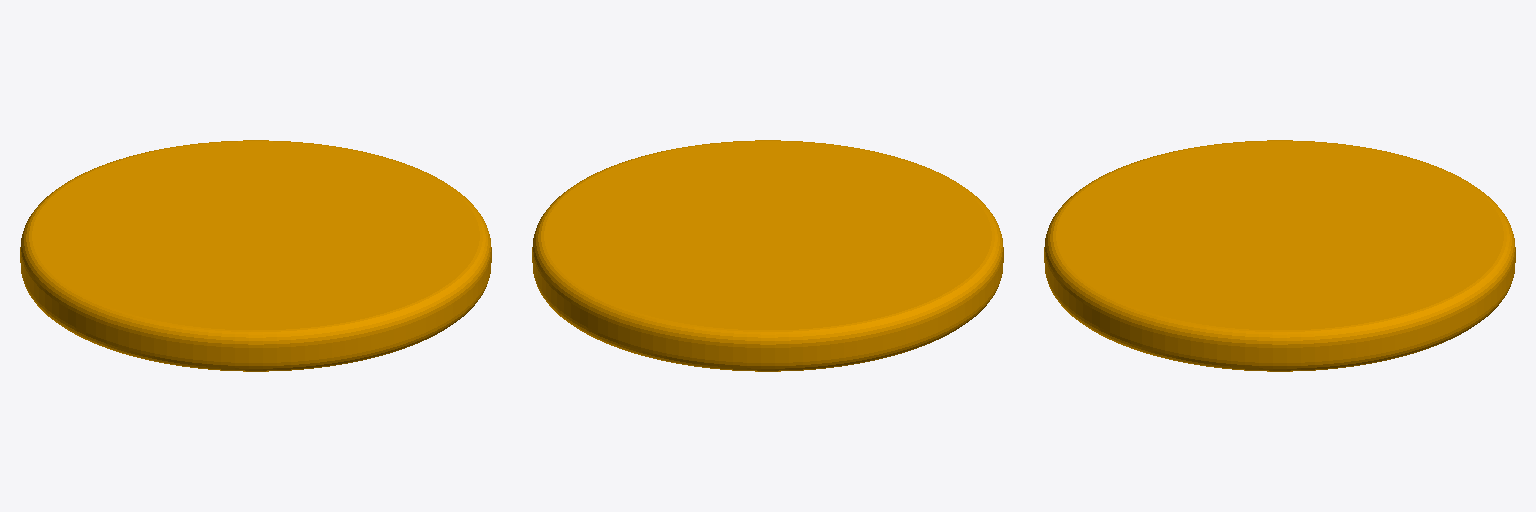
URDF robot description (tom):
<?xml version="1.0"?>
<robot name="tom">

<link name="tom_link">

  <collision>
    <origin xyz="0 0 0" rpy="0 0 0"/>
    <geometry>
      <!-- <mesh filename="package://ur_description/meshes/burger_v1.stl" scale="0.003 0.003 0.003"/> -->
      <box size="0.070 0.070 0.010" />
    </geometry>
  </collision>

  <visual>
    <origin xyz="0 0 0" rpy="0 0 0"/>
    <geometry>
      <mesh filename="package://ur_description/meshes/burger_v1.stl" scale="0.0025 0.0025 0.003"/>
    </geometry>
  </visual>

  <inertial>
   <origin xyz="0 0 0" rpy="0 0 0"/>
   <mass value="0.0225" />
   <inertia
      ixx="0.0" ixy="0.0"  ixz="0.0"
      iyy="0.0" iyz="0.0"  izz="0.0" />
  </inertial>
  <static>true</static>
</link>

<gazebo reference="tom_link">
  <static>1</static>
  <visual>
    <material>
      <ambient>1 0 0. 1.0</ambient>
      <diffuse>1 0 0 1.0</diffuse>
      <specular>0 0 0 1.0</specular>
      <emissive>0 0 0 1.0</emissive>
    </material>
  </visual>
  <mu1>100</mu1>
  <mu2>100</mu2>
  <kp>2147483647</kp>
  <kd>1</kd>
  <maxVel>0</maxVel>
  <minDepth>0.001</minDepth>
</gazebo>

</robot>

--- Facts derived from the render (not from the file) ---
Views: 3 orthographic renders of the robot side by side, from view 1: azimuth 30°, elevation 25°; view 2: azimuth 150°, elevation 25°; view 3: azimuth 270°, elevation 25°.
Robot: tom — 1 links, 0 joints (none); root link tom_link; default pose: every joint at zero.
Links seen in each view (by area): view 1: tom_link; view 2: tom_link; view 3: tom_link.
Boxes of the visible links, x1,y1,x2,y2 form: tom_link: [20, 140, 491, 371]; tom_link: [532, 140, 1003, 371]; tom_link: [1044, 140, 1515, 371].
Bounding box of the posed robot: 0.1206 × 0.1206 × 0.0114 m (x, y, z).
1 mesh visuals loaded from 1 distinct referenced files (1 binary STL).
